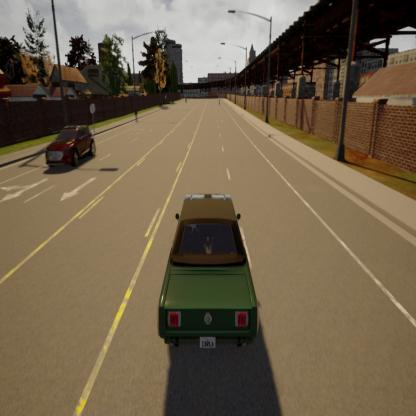Cars: (151, 187, 266, 357), (44, 120, 100, 171)
